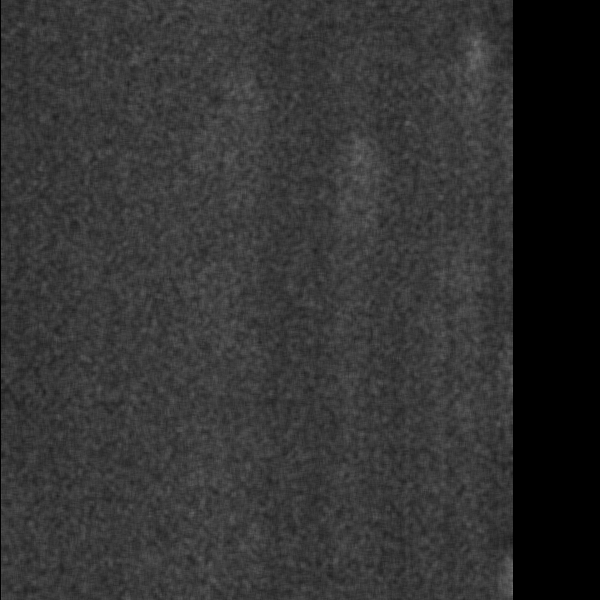spark: (464, 30, 488, 122), (348, 131, 371, 194)
